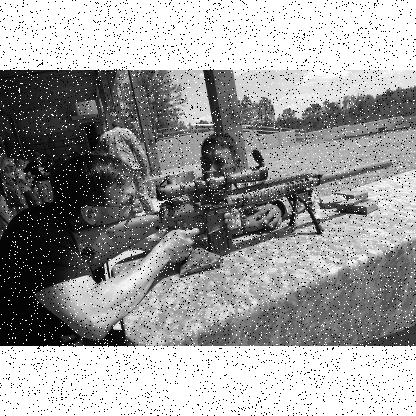gun: (70, 148, 390, 254)
